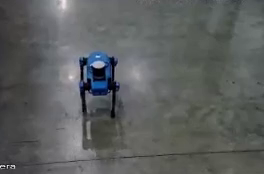robot dog: (76, 51, 124, 121)
